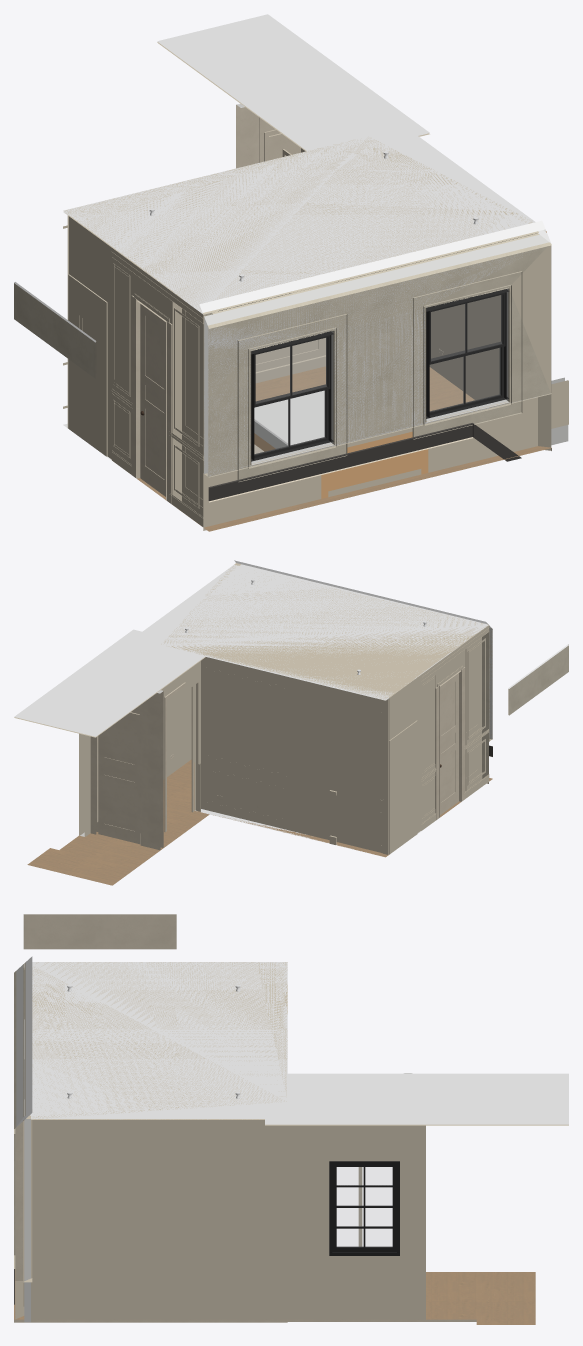
File: blue-bedroom-28c9f262ccb1.glb
The picture shows the model from 3 angles, top to bottom: view 1: azimuth 30°, elevation 25°; view 2: azimuth 150°, elevation 25°; view 3: azimuth 270°, elevation 25°; orthographic projection. The views are drawn at different scales.
Parts seen in each view (by area): view 1: blue-bedroom-9d91b47435c6fb33, blue-bedroom-bddaf205afbd60c0, blue-bedroom-e8793759323e04f0, blue-bedroom-look-9d91b47435c6fb33, blue-bedroom-df3e1f21720b0c39, blue-bedroom-ed5fdcd3ee9c0dd5, blue-bedroom-3c3de67e8dd93323, blue-bedroom-649b3532e9781727, blue-bedroom-2f7d8eff34a2c180, blue-bedroom-d558d227e2c2e58e, blue-bedroom-746250f96522f643, blue-bedroom-64753ebcb3824a84 (+17 smaller); view 2: blue-bedroom-6e269356ae8bfd70, blue-bedroom-9d91b47435c6fb33, blue-bedroom-e8793759323e04f0, blue-bedroom-look-9d91b47435c6fb33, blue-bedroom-ed5fdcd3ee9c0dd5, blue-bedroom-look-dcc0092055abeaa8, blue-bedroom-look-2575515a05775d9e, blue-bedroom-look-eb02897c2e79e2b1, blue-bedroom-ead09a0b3f9e3bd9, blue-bedroom-3e649b0d114ae387, blue-bedroom-bf159a19de53e60e, blue-bedroom-746250f96522f643 (+13 smaller); view 3: blue-bedroom-746250f96522f643, blue-bedroom-9d91b47435c6fb33, blue-bedroom-look-746250f96522f643, blue-bedroom-e8793759323e04f0, blue-bedroom-look-9d91b47435c6fb33, blue-bedroom-look-5035c6783c6505b3, blue-bedroom-look-2575515a05775d9e, blue-bedroom-look-3a4d9d62ecd7be1c, blue-bedroom-0a6e1f8a567f4490, blue-bedroom-64753ebcb3824a84, blue-bedroom-2575515a05775d9e, blue-bedroom-49f6d498b24b79cd.
Part boxes in pixels (box(x1,y1,x2,y2)): blue-bedroom-9d91b47435c6fb33: box(63, 127, 538, 314); blue-bedroom-bddaf205afbd60c0: box(207, 242, 550, 476); blue-bedroom-e8793759323e04f0: box(64, 138, 545, 312); blue-bedroom-look-9d91b47435c6fb33: box(157, 14, 429, 151); blue-bedroom-df3e1f21720b0c39: box(208, 243, 551, 475); blue-bedroom-ed5fdcd3ee9c0dd5: box(67, 215, 181, 500); blue-bedroom-3c3de67e8dd93323: box(251, 330, 333, 461); blue-bedroom-649b3532e9781727: box(426, 289, 509, 418); blue-bedroom-2f7d8eff34a2c180: box(203, 393, 551, 530); blue-bedroom-d558d227e2c2e58e: box(254, 390, 428, 498); blue-bedroom-746250f96522f643: box(398, 234, 532, 399); blue-bedroom-64753ebcb3824a84: box(204, 234, 548, 476); blue-bedroom-6e269356ae8bfd70: box(200, 656, 389, 855); blue-bedroom-9d91b47435c6fb33: box(134, 564, 488, 700); blue-bedroom-e8793759323e04f0: box(161, 560, 488, 698); blue-bedroom-look-9d91b47435c6fb33: box(14, 629, 205, 737); blue-bedroom-ed5fdcd3ee9c0dd5: box(382, 641, 465, 854); blue-bedroom-look-dcc0092055abeaa8: box(98, 712, 140, 844); blue-bedroom-look-2575515a05775d9e: box(27, 803, 209, 885); blue-bedroom-look-eb02897c2e79e2b1: box(90, 690, 163, 850); blue-bedroom-ead09a0b3f9e3bd9: box(389, 720, 417, 854); blue-bedroom-3e649b0d114ae387: box(465, 625, 488, 790); blue-bedroom-bf159a19de53e60e: box(440, 673, 458, 814); blue-bedroom-746250f96522f643: box(161, 672, 191, 779); blue-bedroom-746250f96522f643: box(32, 1119, 287, 1319); blue-bedroom-9d91b47435c6fb33: box(24, 962, 287, 1119); blue-bedroom-look-746250f96522f643: box(287, 1125, 425, 1319); blue-bedroom-e8793759323e04f0: box(25, 956, 287, 1118); blue-bedroom-look-9d91b47435c6fb33: box(265, 1073, 568, 1125); blue-bedroom-look-5035c6783c6505b3: box(329, 1161, 399, 1255); blue-bedroom-look-2575515a05775d9e: box(287, 1272, 535, 1324); blue-bedroom-look-3a4d9d62ecd7be1c: box(23, 914, 176, 949); blue-bedroom-0a6e1f8a567f4490: box(15, 1121, 22, 1281); blue-bedroom-64753ebcb3824a84: box(16, 964, 23, 1126); blue-bedroom-2575515a05775d9e: box(14, 1269, 287, 1322); blue-bedroom-49f6d498b24b79cd: box(24, 1118, 30, 1281).
Size of the model in its own units: 6.73 by 3.04 by 7.3.
Materials: 28 (5 with a texture image).
